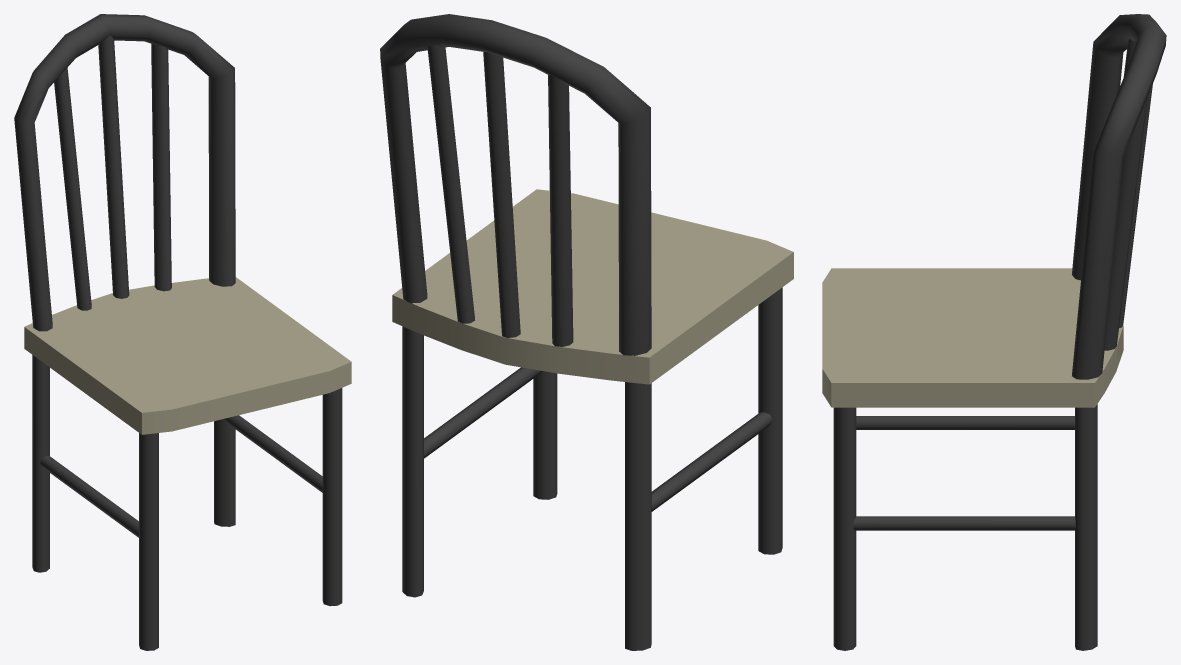
File: PS_Chair02.fbx
The picture shows the model from 3 angles, left to right: view 1: azimuth 30°, elevation 25°; view 2: azimuth 150°, elevation 25°; view 3: azimuth 270°, elevation 25°; orthographic projection. The views are drawn at different scales.
Parts seen in each view (by area): view 1: PS_Chair02; view 2: PS_Chair02; view 3: PS_Chair02.
Boxes of the visible parts, x1=… form: PS_Chair02: x1=14, y1=14, x2=351, y2=650; PS_Chair02: x1=380, y1=14, x2=793, y2=650; PS_Chair02: x1=822, y1=14, x2=1166, y2=650.
Size of the model in its own units: 0.5167 by 1.16 by 0.6347.
